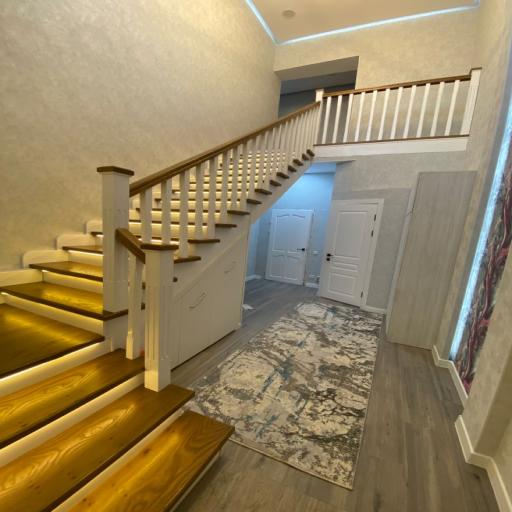child: (319, 201, 377, 306), (265, 210, 313, 285)
laptop: (0, 131, 305, 511)
